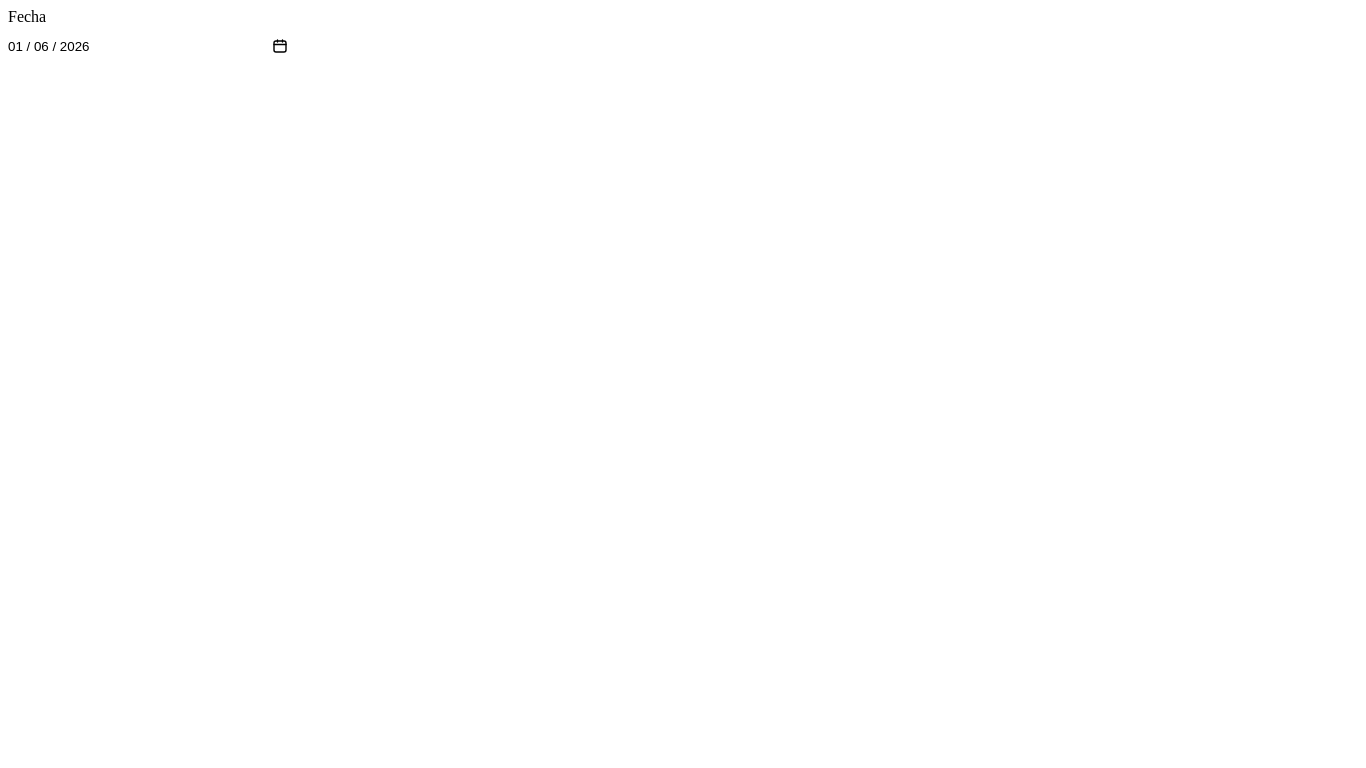
Scenario: Datepicker › navigates months
Click the button named "Fecha" at (49, 46), box [8,26,288,66]
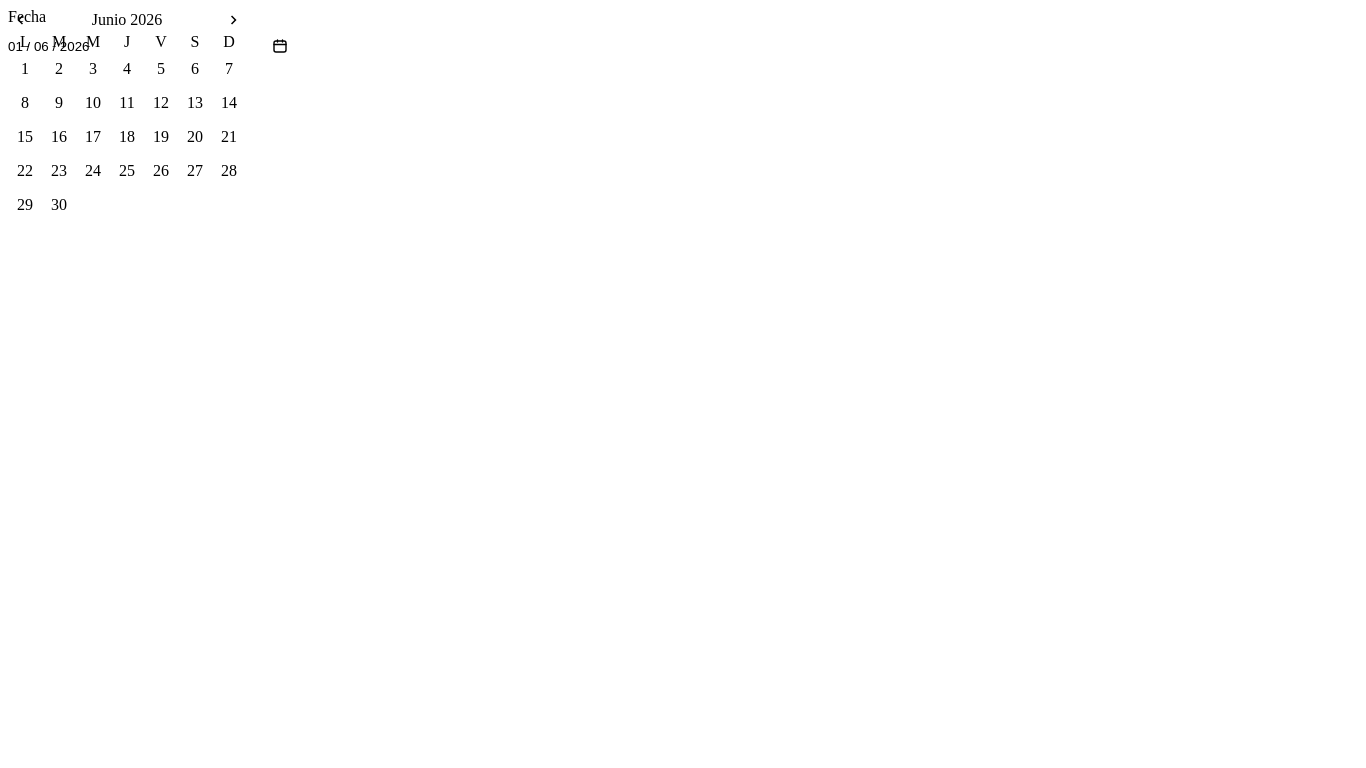
Click the button named "Mes siguiente" at (234, 20), box [222,8,246,32]
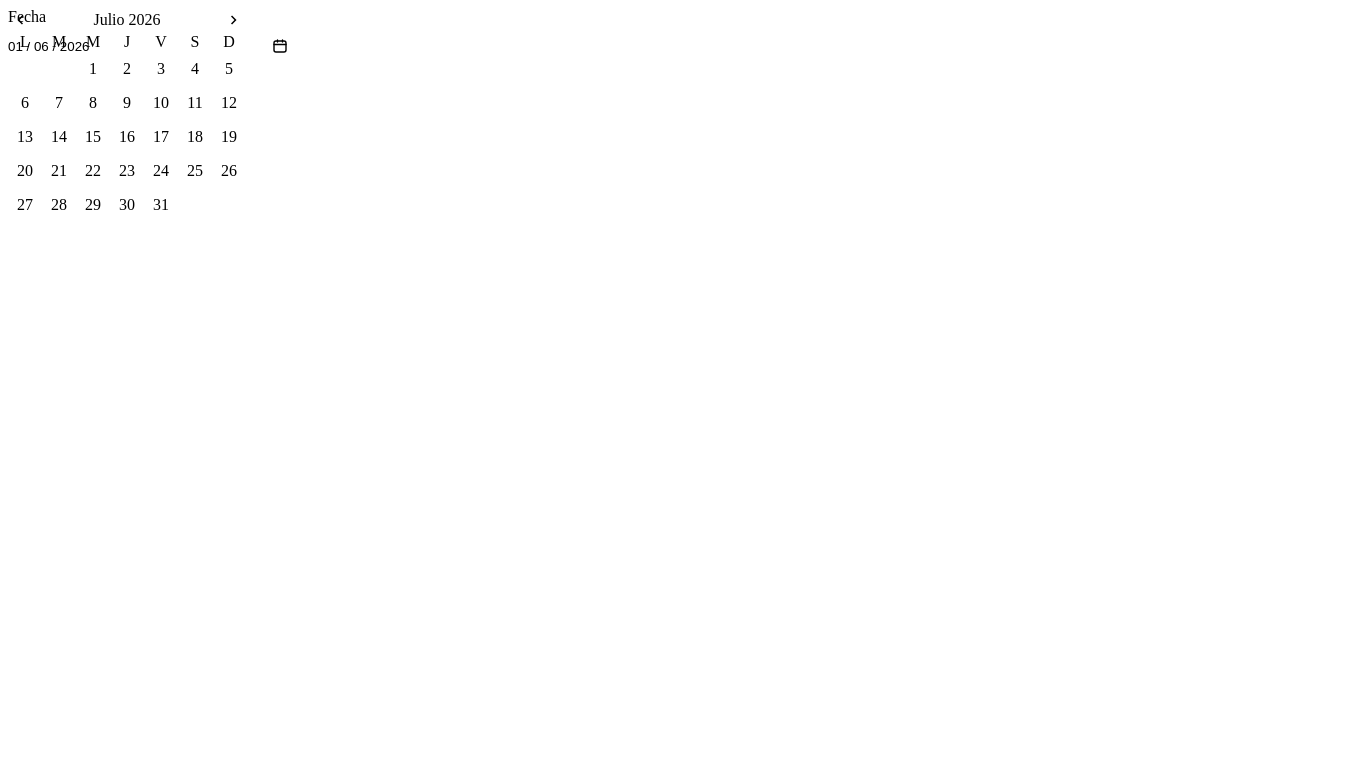
Now the text "Julio 2026" is shown, box [93,11,160,28]
